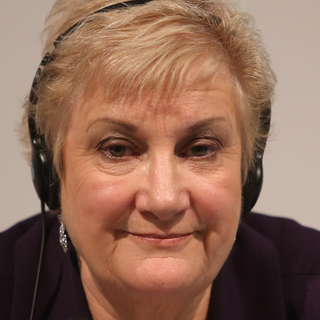eye: (93, 138, 143, 164), (178, 138, 224, 164)
